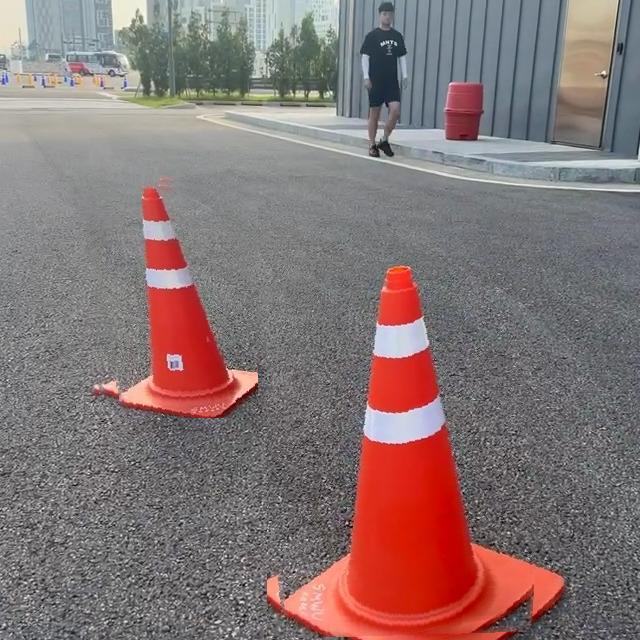fallen_object: (315, 249, 572, 640), (75, 142, 245, 385)
